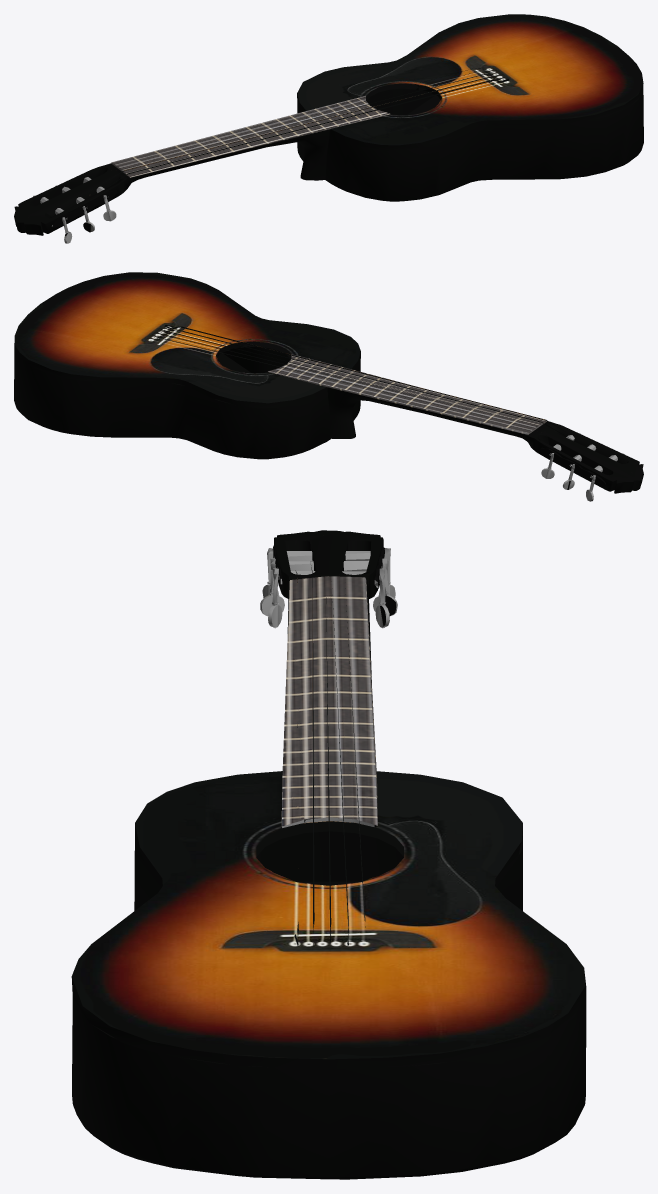
File: Guitar.FBX
3 renders of one model, top to bottom at view 1: azimuth 30°, elevation 25°; view 2: azimuth 150°, elevation 25°; view 3: azimuth 270°, elevation 25°, orthographic. The views are drawn at different scales.
Visible parts, largest first — view 1: Guitar; view 2: Guitar; view 3: Guitar.
Part boxes in pixels (bbox=[...]): Guitar: bbox=[14, 14, 643, 243]; Guitar: bbox=[14, 272, 643, 501]; Guitar: bbox=[71, 530, 586, 1179].
Size of the model in its own units: 118 by 12.87 by 43.76.
Materials: 1 (1 with a texture image).
